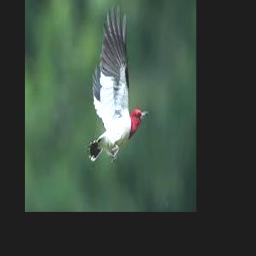Woodpecker: (86, 5, 148, 162)
